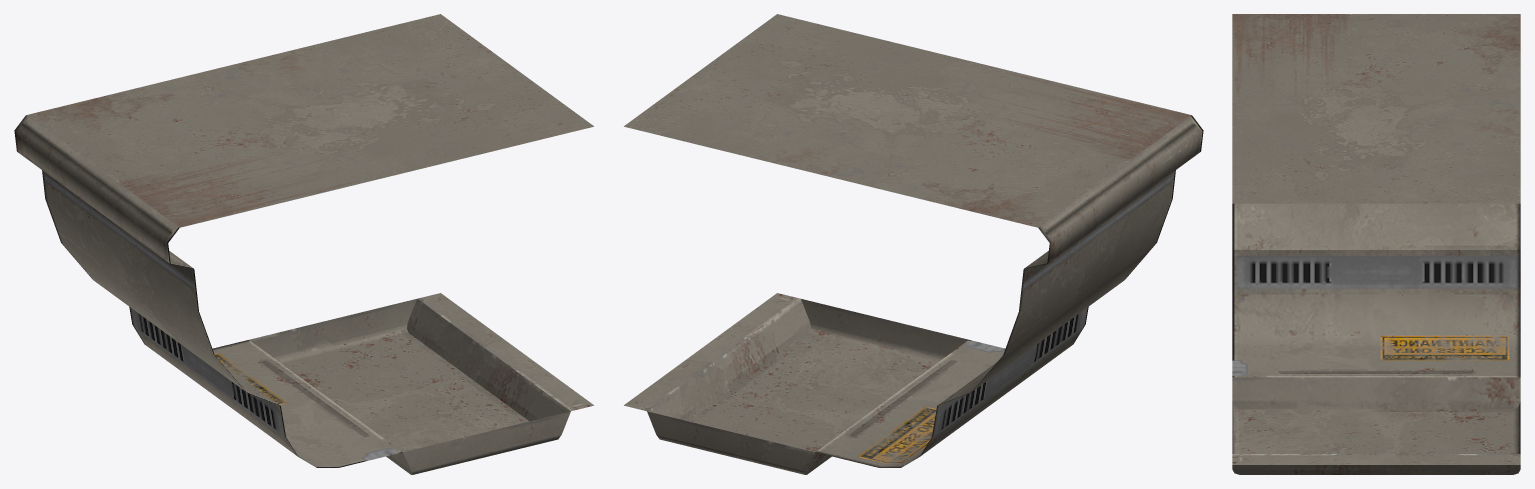
File: CP_Canopy_Industrial_1m_01.fbx
The picture shows the model from 3 angles, left to right: view 1: azimuth 30°, elevation 25°; view 2: azimuth 150°, elevation 25°; view 3: azimuth 270°, elevation 25°; orthographic projection. The views are drawn at different scales.
Visible parts, largest first — view 1: CP_Canopy_Industrial_1m_01; view 2: CP_Canopy_Industrial_1m_01; view 3: CP_Canopy_Industrial_1m_01.
Boxes of the visible parts, <box> form: CP_Canopy_Industrial_1m_01: <box>14,14,593,474</box>; CP_Canopy_Industrial_1m_01: <box>624,14,1203,474</box>; CP_Canopy_Industrial_1m_01: <box>1232,14,1520,474</box>.
Size of the model in its own units: 160 by 110 by 100.
